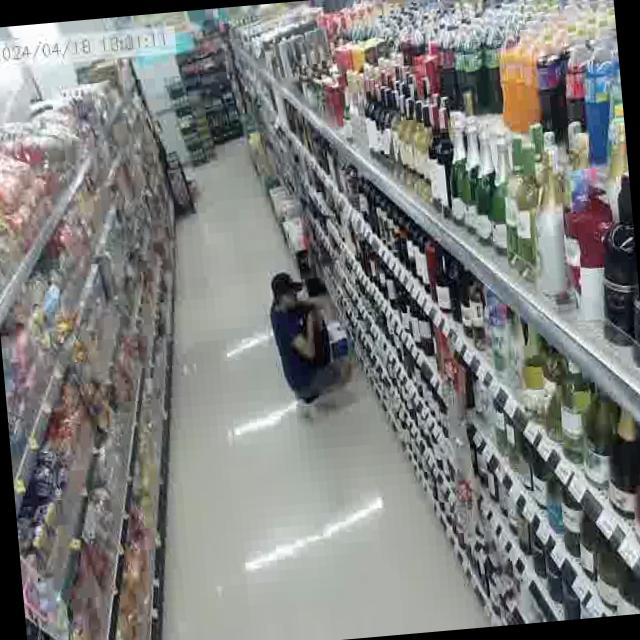shoplifting: (252, 242, 370, 434)
